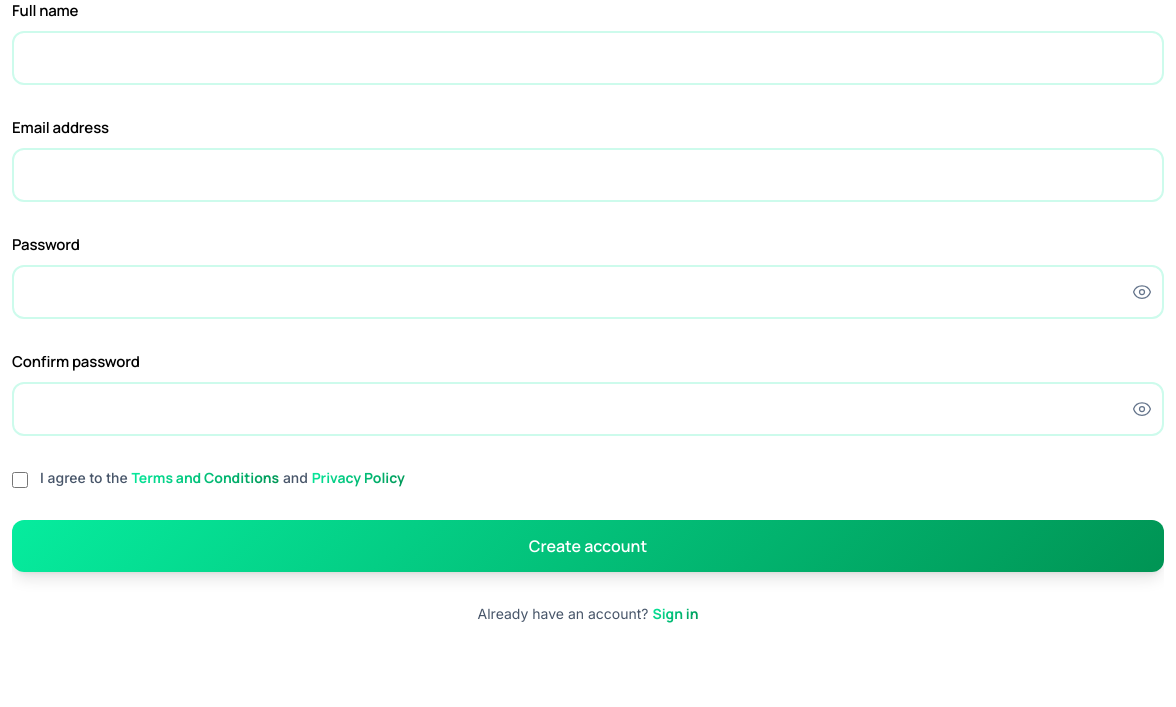
Test: RegisterForm › shows generic error message for other registration failures
In the field labelled "Full name": [588, 58] box [12,30,1164,85], type "John Doe"
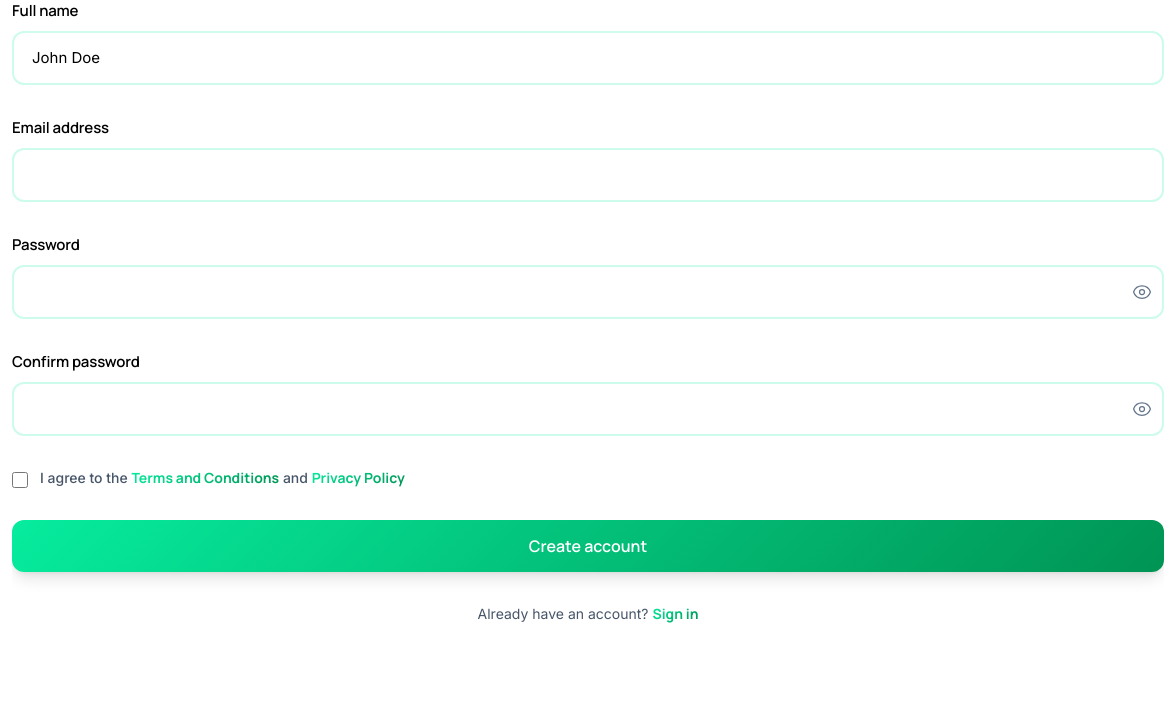
In the field labelled "Email address": [588, 175] box [12,148,1164,202], type "test@example.com"
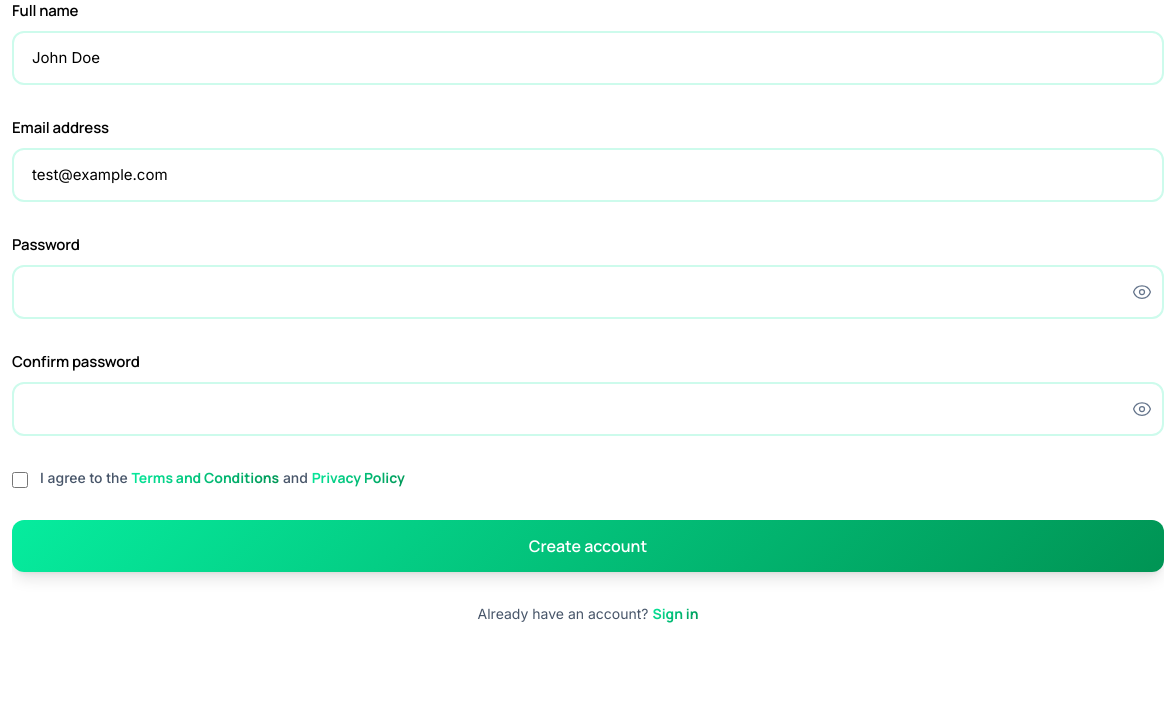
In the password field labelled "Password": [588, 292] box [12,264,1164,319], type "Password123!"
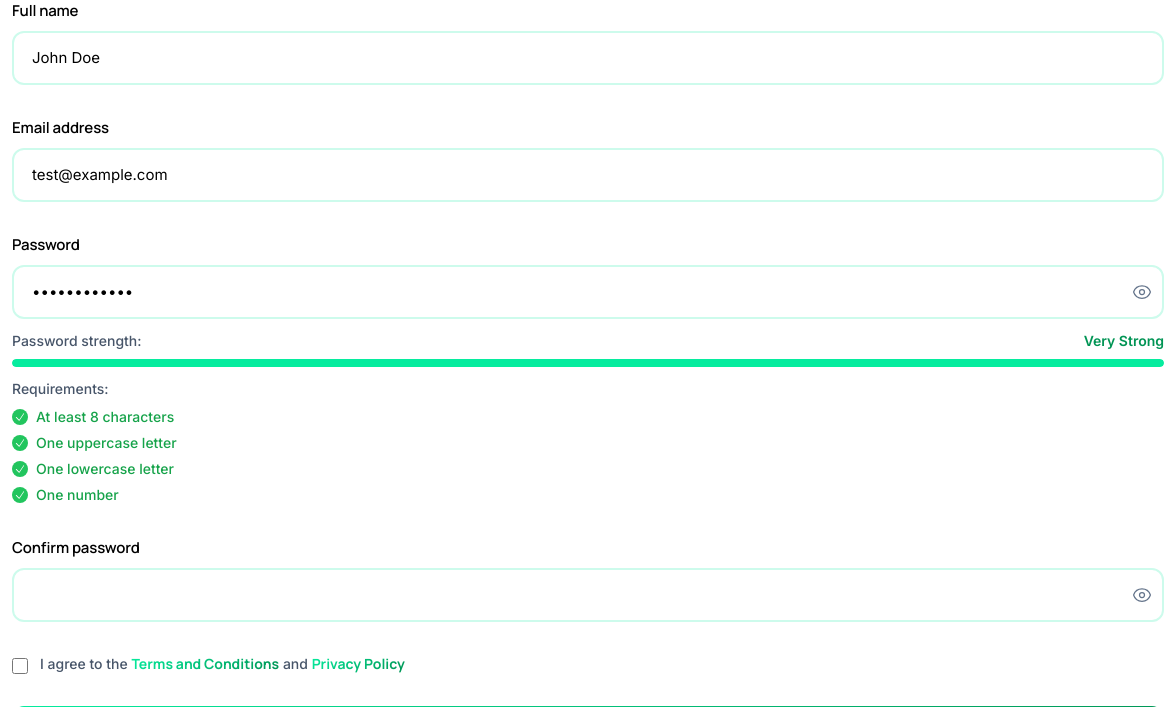
In the password field labelled "Confirm password": [588, 595] box [12,568,1164,622], type "Password123!"
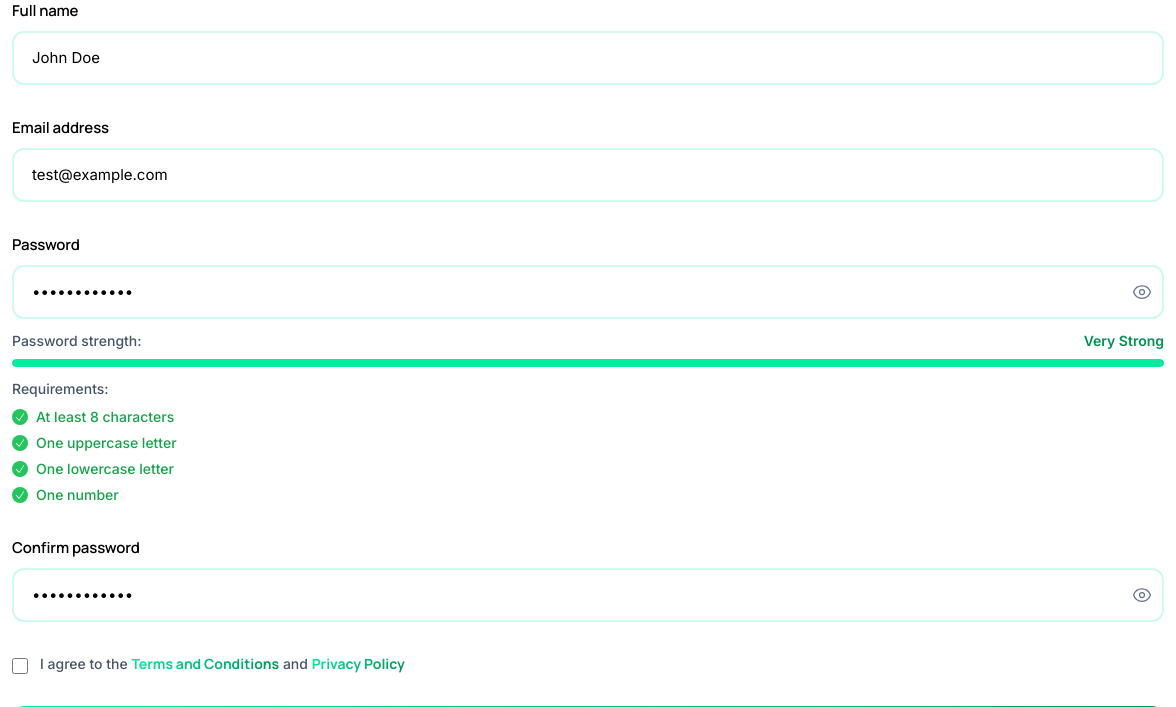
Click the checkbox labelled "I agree to the Terms and Conditions and Privacy Policy": [20, 666] box [12,658,28,674]
(page scrolled)
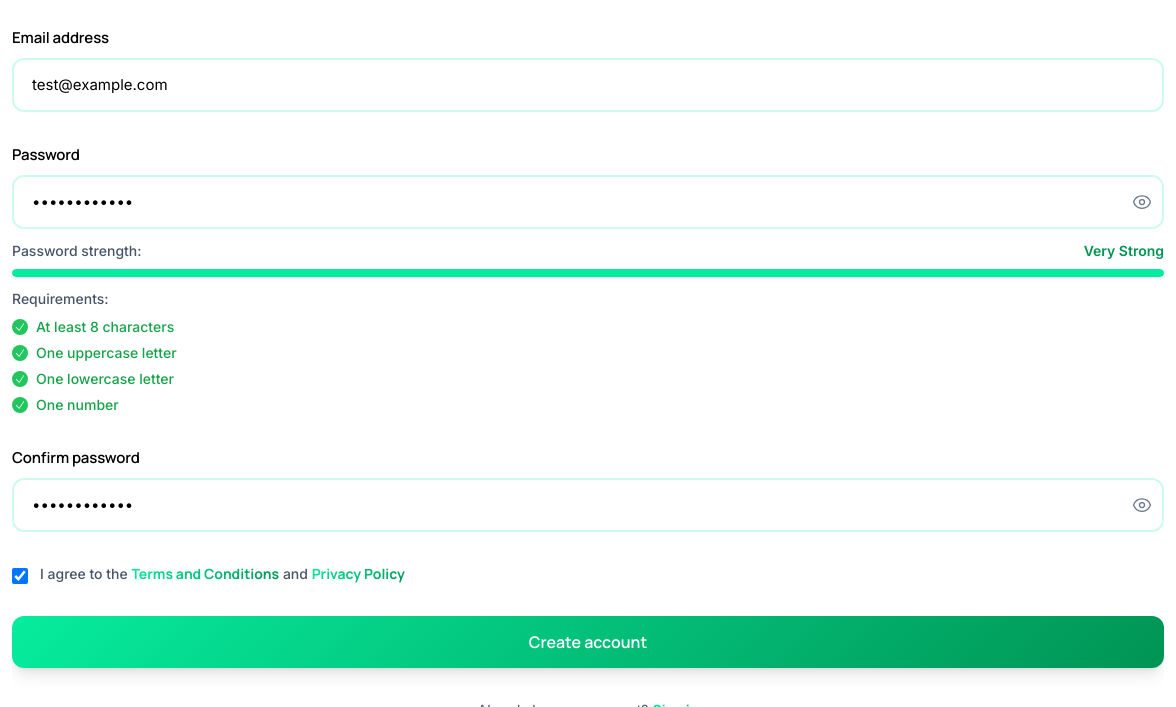
Click the button "Create account": [588, 642] box [12,616,1164,668]
(page scrolled)
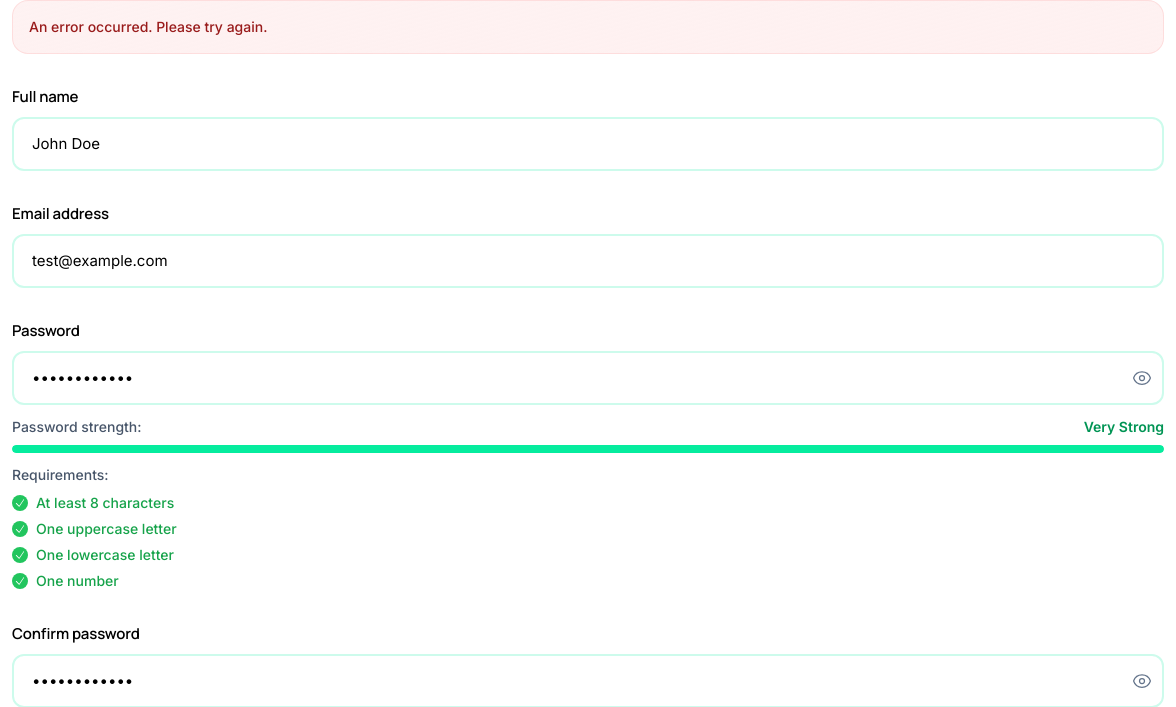
Check: the text "An error occurred. Please try again." is shown, box [29,18,267,35]
